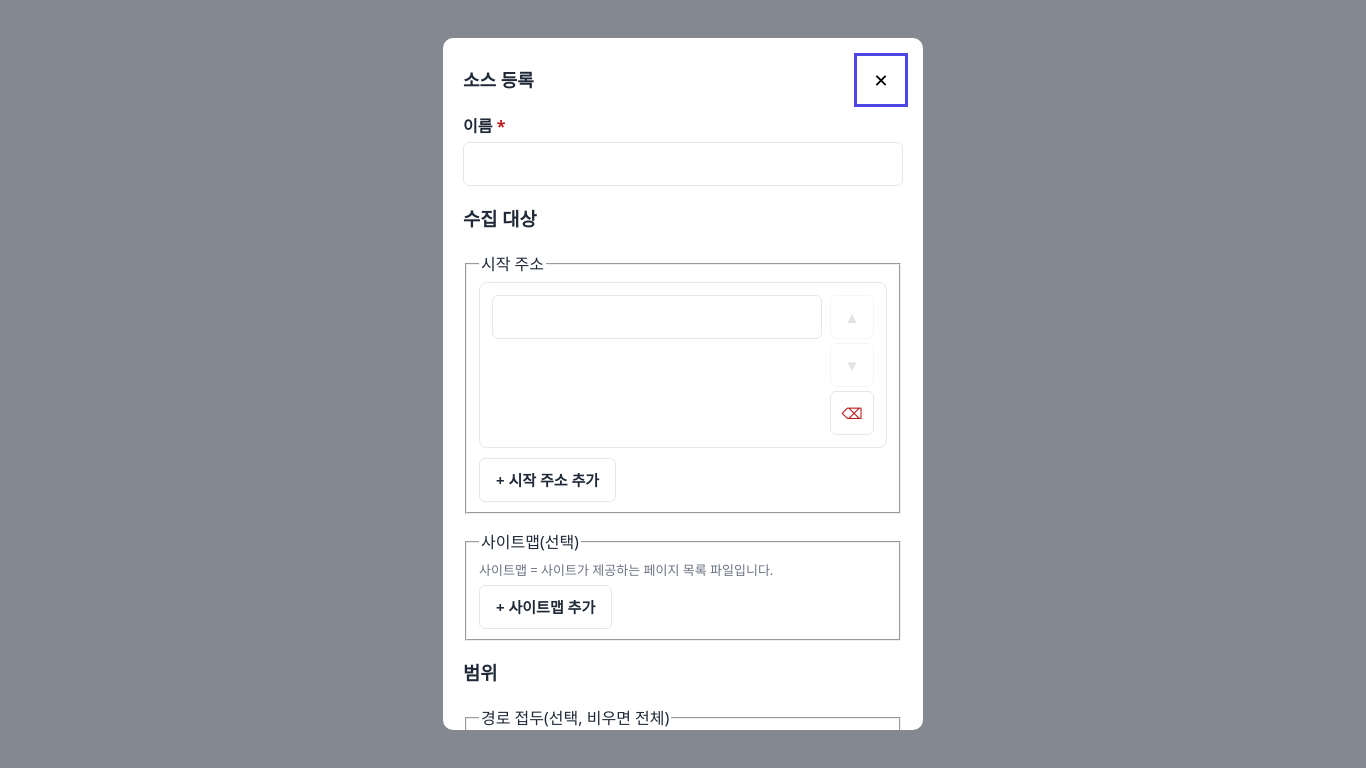
KbSourceEditModal › 권리 확인 체크 없이 저장하면 인라인 오류를 보여주고 저장 요청을 보내지 않는다
Type "인사규정 게시판" into the field labelled "이름 *". click: (683, 164)
box: [463, 142, 903, 186]
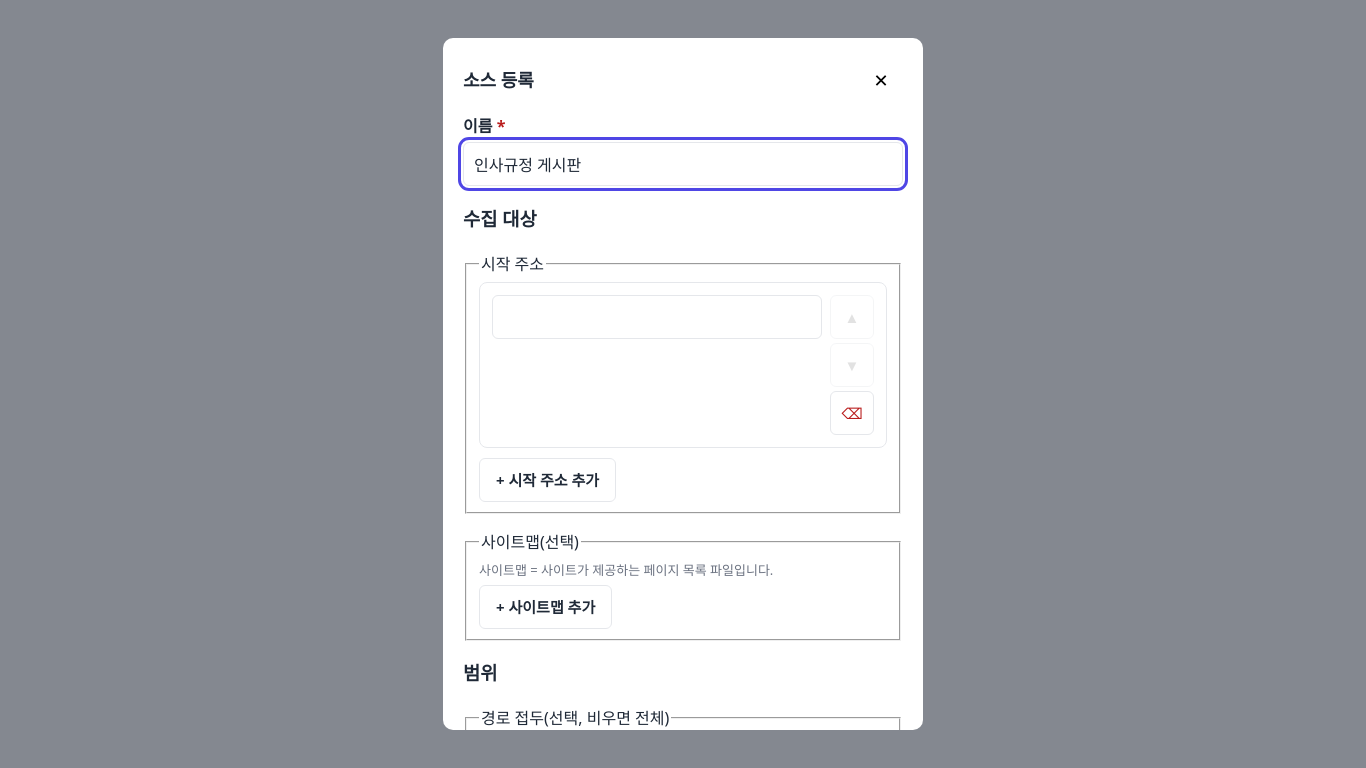
Type "https://intra.example.local/hr/" into the field named "번째 시작 주소". click: (657, 316)
box: [492, 294, 822, 338]
(page scrolled)
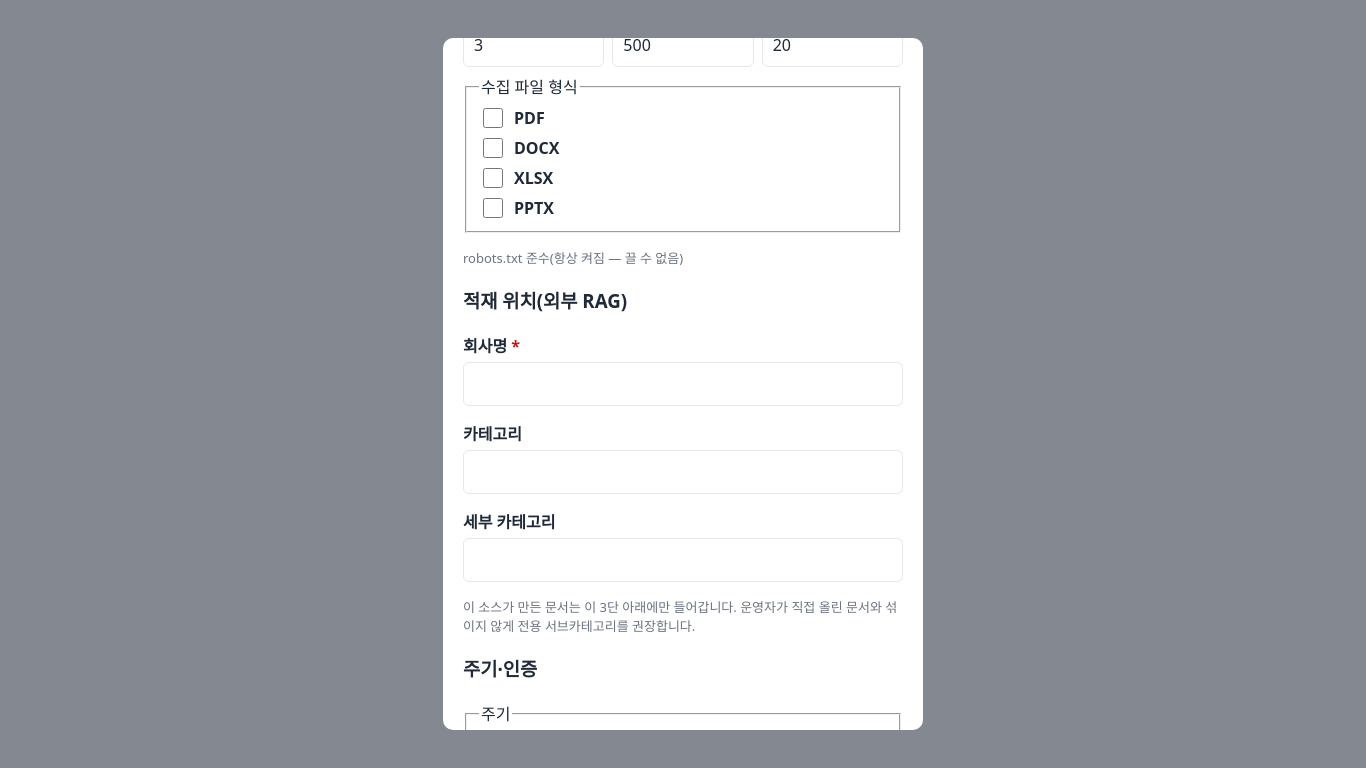
Type "예시공사" into the field labelled "회사명 *". click: (683, 384)
box: [463, 362, 903, 406]
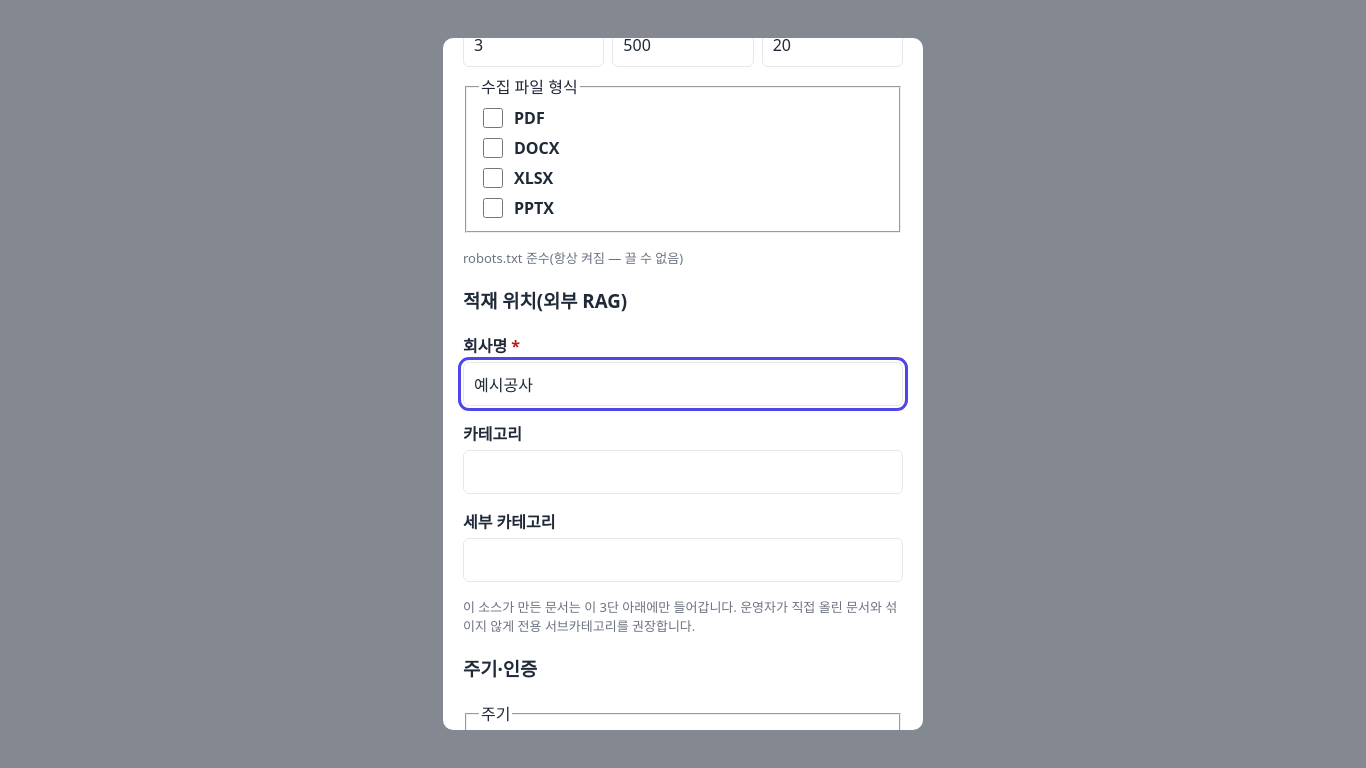
Type "인사" into the field labelled "카테고리". click: (683, 472)
box: [463, 450, 903, 494]
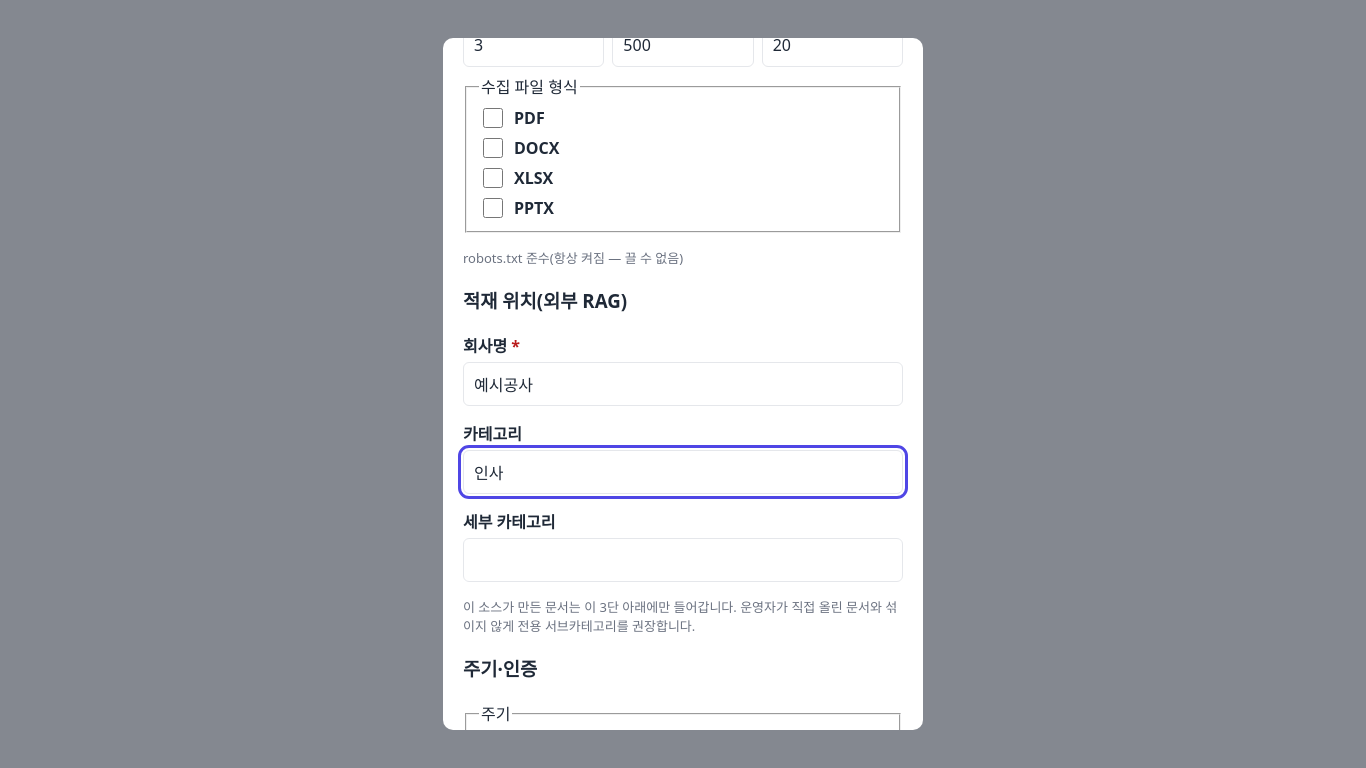
Type "크롤_인사규정" into the field labelled "세부 카테고리". click: (683, 560)
box: [463, 538, 903, 582]
(page scrolled)
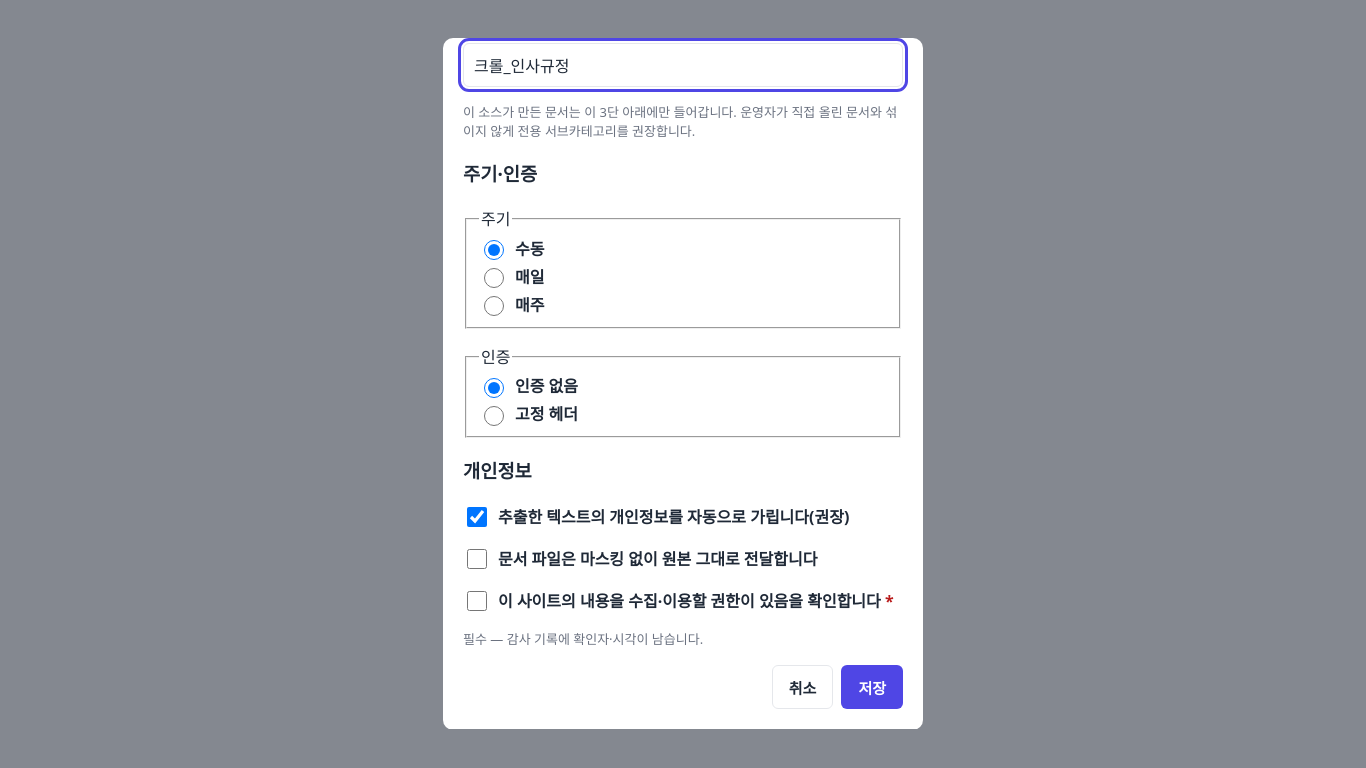
Click the button "저장". click: (872, 687)
box: [841, 665, 903, 709]
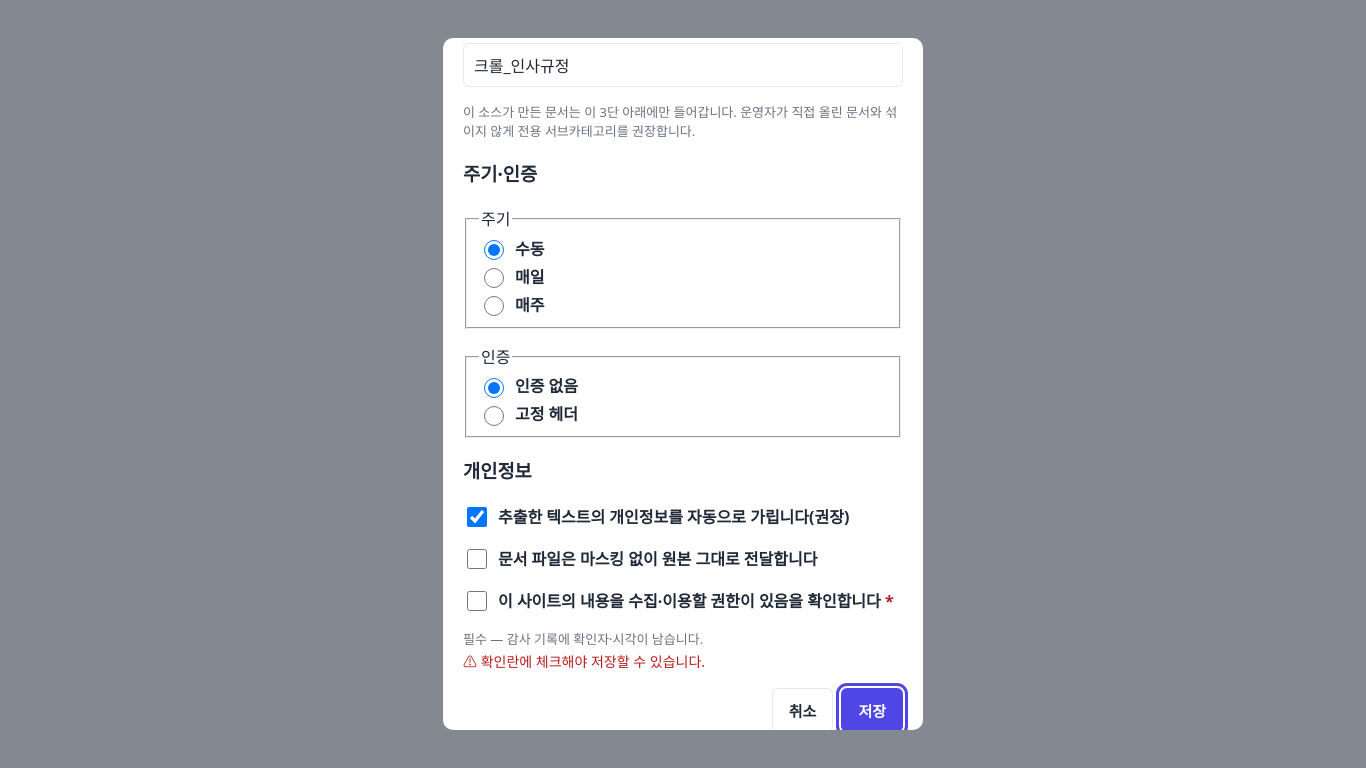
Now the text "확인란에 체크해야 저장할 수 있습니다." is shown, box [481, 652, 705, 671]
